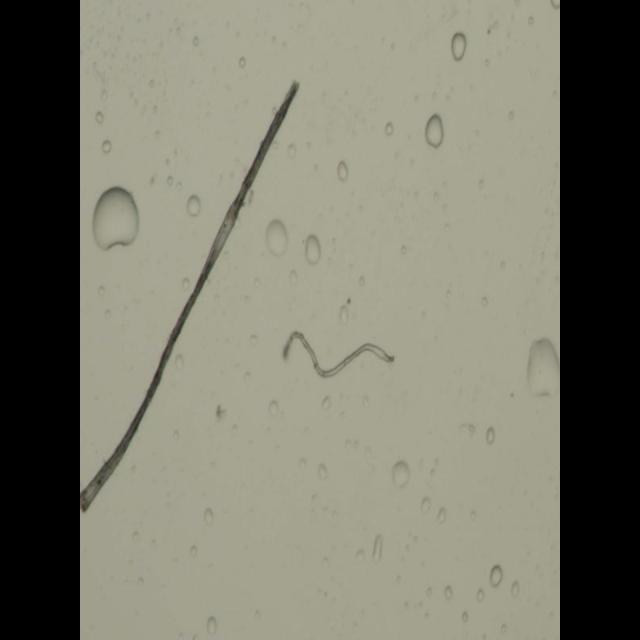Fibre: (80, 78, 300, 512)
